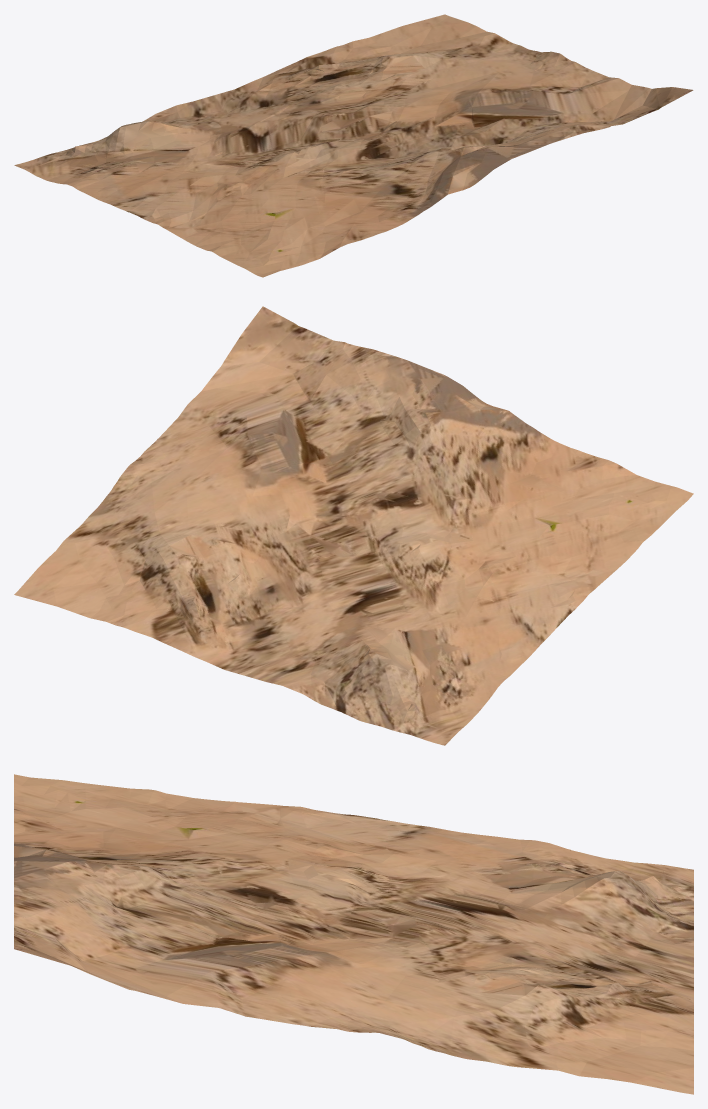
3 views of the same model, one above another, from view 1: azimuth 30°, elevation 25°; view 2: azimuth 150°, elevation 25°; view 3: azimuth 270°, elevation 25° (orthographic). The views are drawn at different scales.
Size of the model in its own units: 4.18 by 1.41 by 4.18.
Materials: 3 (3 with a texture image).
